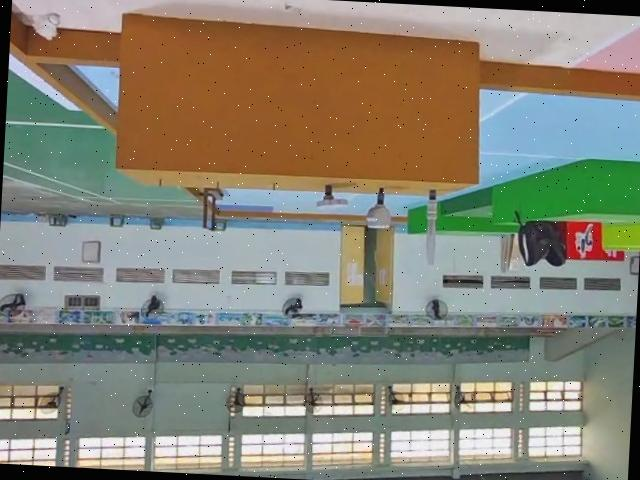Fist: (362, 189, 397, 233)
Hand: (314, 183, 351, 213)
Sph: (420, 187, 441, 266)
